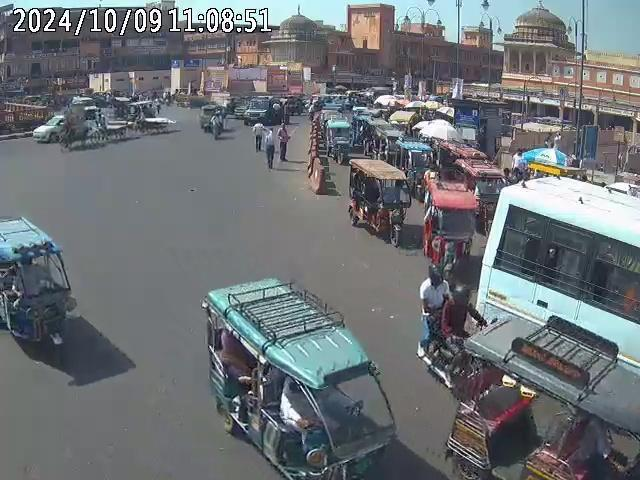auto: (201, 275, 397, 479), (447, 310, 640, 480), (0, 214, 77, 359), (422, 175, 483, 280), (347, 158, 410, 247), (322, 120, 352, 162)
bus: (472, 173, 639, 383)
car: (241, 93, 280, 127)
helmet: (451, 282, 474, 308), (428, 263, 446, 286)
motorbike-rider: (416, 264, 478, 387)
person: (263, 125, 278, 168), (277, 123, 290, 163)
